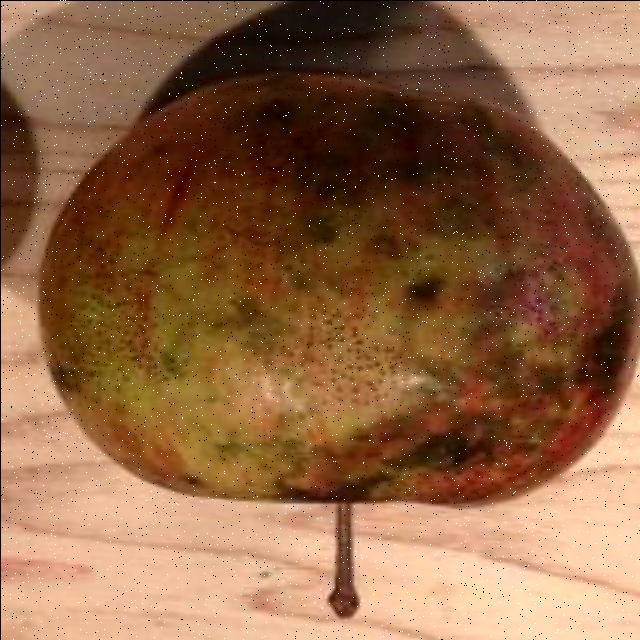BLOTCH: (8, 35, 640, 542)
